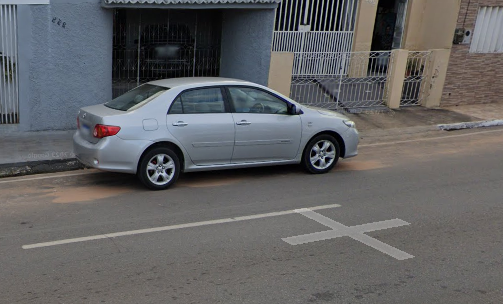car: (70, 71, 364, 193)
